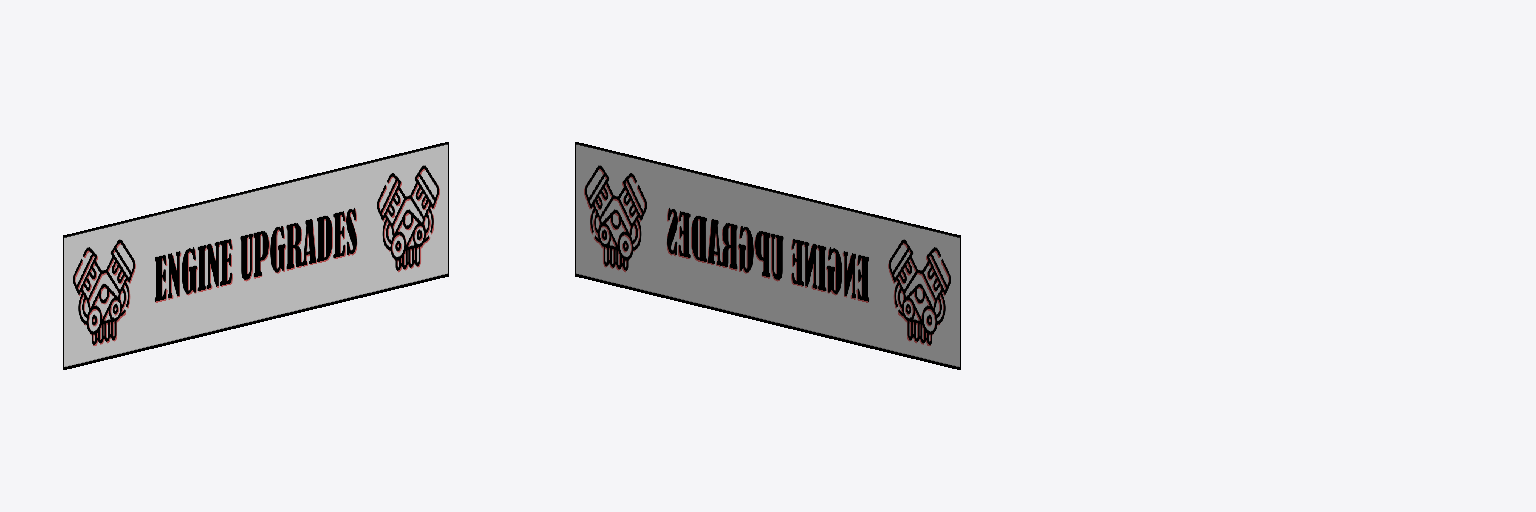
The picture shows the model from 3 angles: view 1: azimuth 30°, elevation 25°; view 2: azimuth 150°, elevation 25°; view 3: azimuth 270°, elevation 25°; orthographic projection.
Visible parts, largest first — view 1: Plane.002; view 2: Plane.002; view 3: none.
Part boxes in pixels (bbox=[...]): Plane.002: bbox=[63, 142, 448, 369]; Plane.002: bbox=[575, 142, 960, 369].
Size of the model in its own units: 1.2 by 0.4 by 0.
Materials: 1 (1 with a texture image).